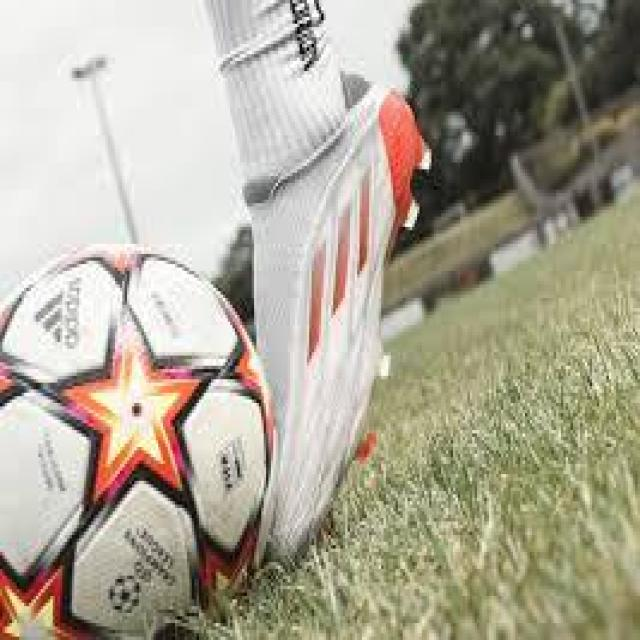Soccer Ball: (0, 240, 276, 640)
